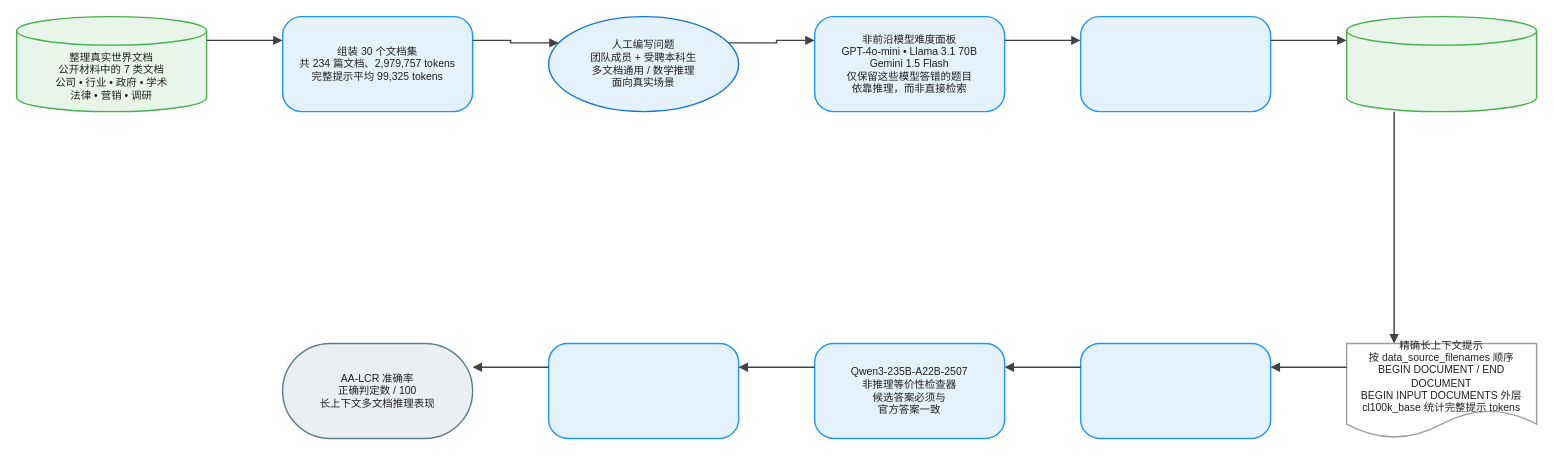
This 1554x456 diagram has some shape labels left out. Each missing label, with the box of its shape:
二元判定 输出 CORRECT 或 INCORRECT 与官方答案一致: (547, 342, 739, 439)
人工验证答案 首次作答通常为 40–60% 展示标准答案后高度一致 修订 / 丢弃；至少 1 人答对: (1079, 15, 1271, 112)
发布 AA-LCR 100 题 • CSV 答案 有序 data_source_filenames 提取文本 ZIP: (1345, 15, 1537, 112)
目标模型回答 阅读完整文档集并跨文档推理 输出候选答案: (1079, 342, 1271, 439)
